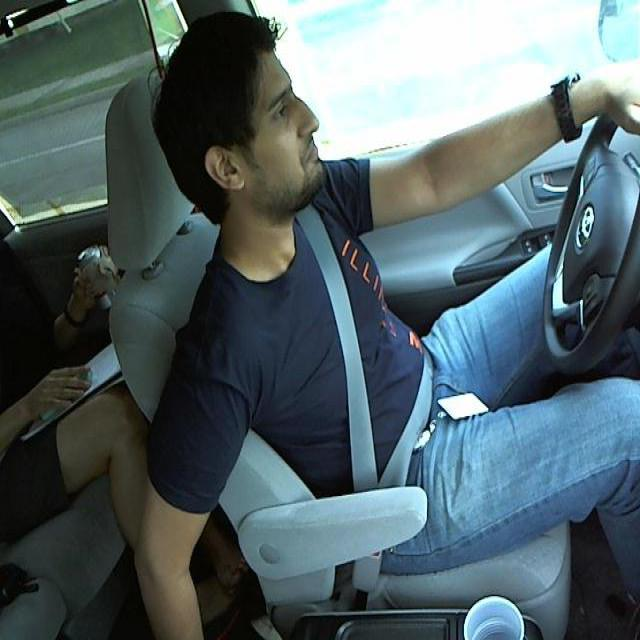seatbelt: (297, 219, 433, 501)
